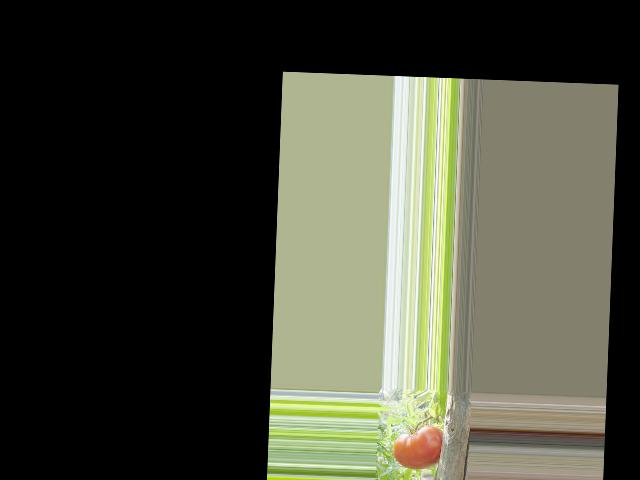tomato: (391, 423, 443, 470)
